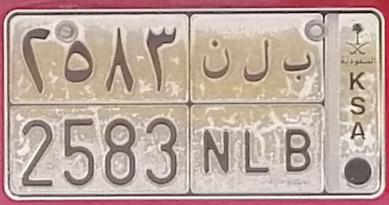2: (21, 27, 54, 187)
3: (145, 26, 178, 186)
5: (62, 39, 97, 186)
8: (104, 26, 137, 185)
B: (281, 52, 313, 172)
L: (243, 38, 271, 174)
N: (201, 38, 231, 173)
